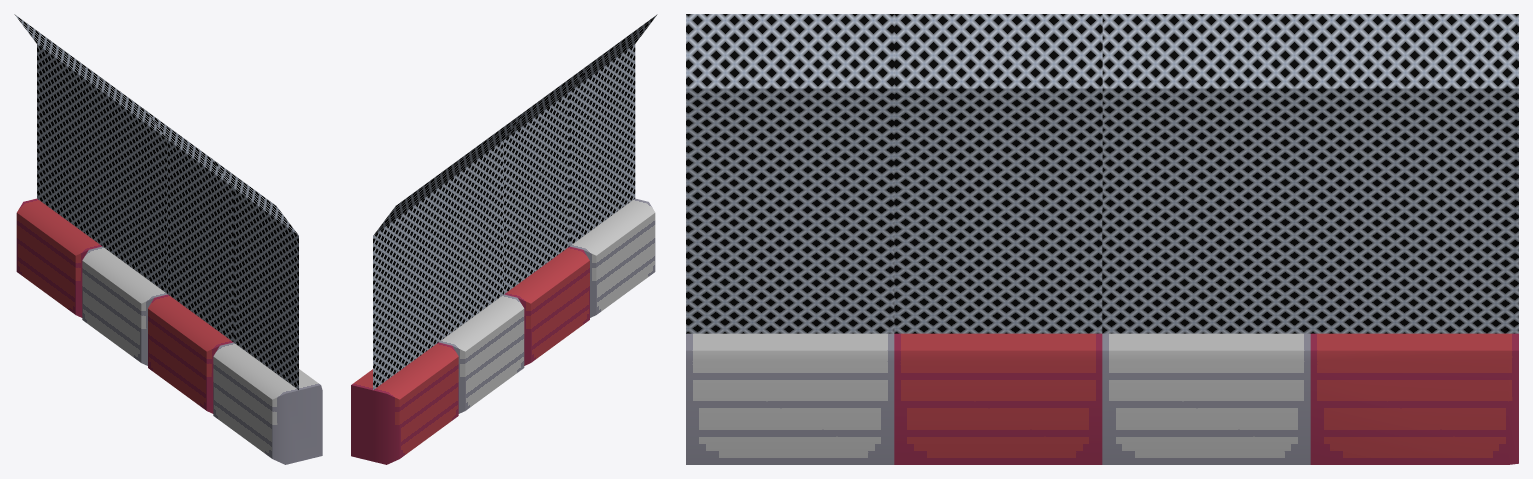
Rendered from racefence.fbx.
The picture shows the model from 3 angles, left to right: view 1: azimuth 30°, elevation 25°; view 2: azimuth 150°, elevation 25°; view 3: azimuth 270°, elevation 25°; orthographic projection. The views are drawn at different scales.
Visible parts, largest first — view 1: RaceFenceLOD0; view 2: RaceFenceLOD0; view 3: RaceFenceLOD0.
Part boxes in pixels (x1,y1,x2,y2): RaceFenceLOD0: [14, 14, 322, 464]; RaceFenceLOD0: [351, 14, 657, 464]; RaceFenceLOD0: [686, 14, 1518, 464].
Size of what is drawn, in the model's own units: 41.45 by 220 by 400.
